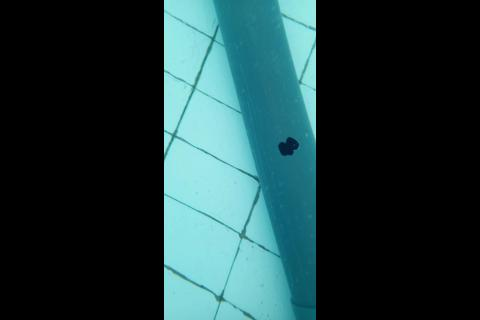kebocoran: (277, 136, 298, 157)
